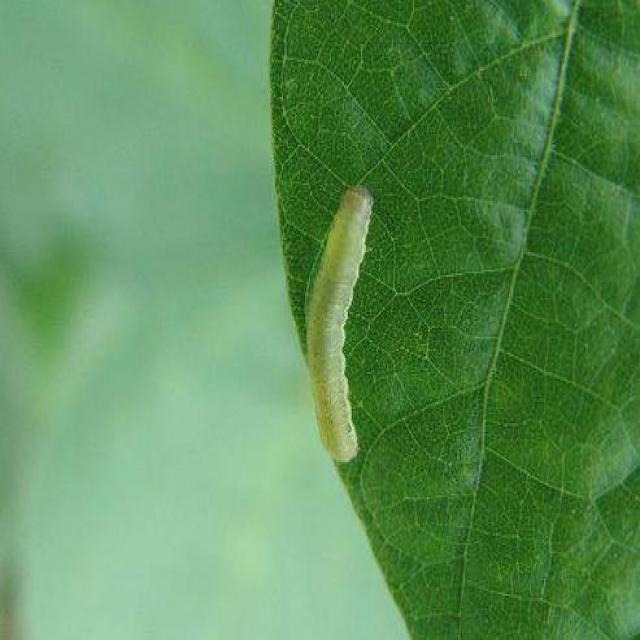armyworm: (310, 177, 377, 461)
